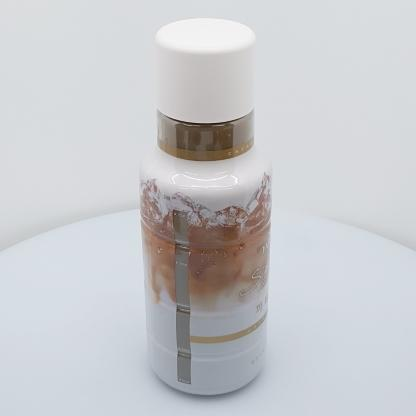----------1-1L: (140, 18, 272, 395)
